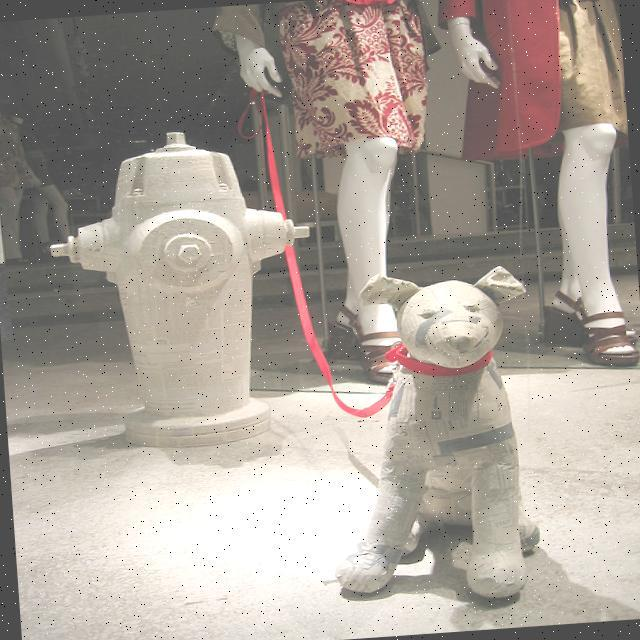fire_hydrant: (46, 120, 322, 459)
